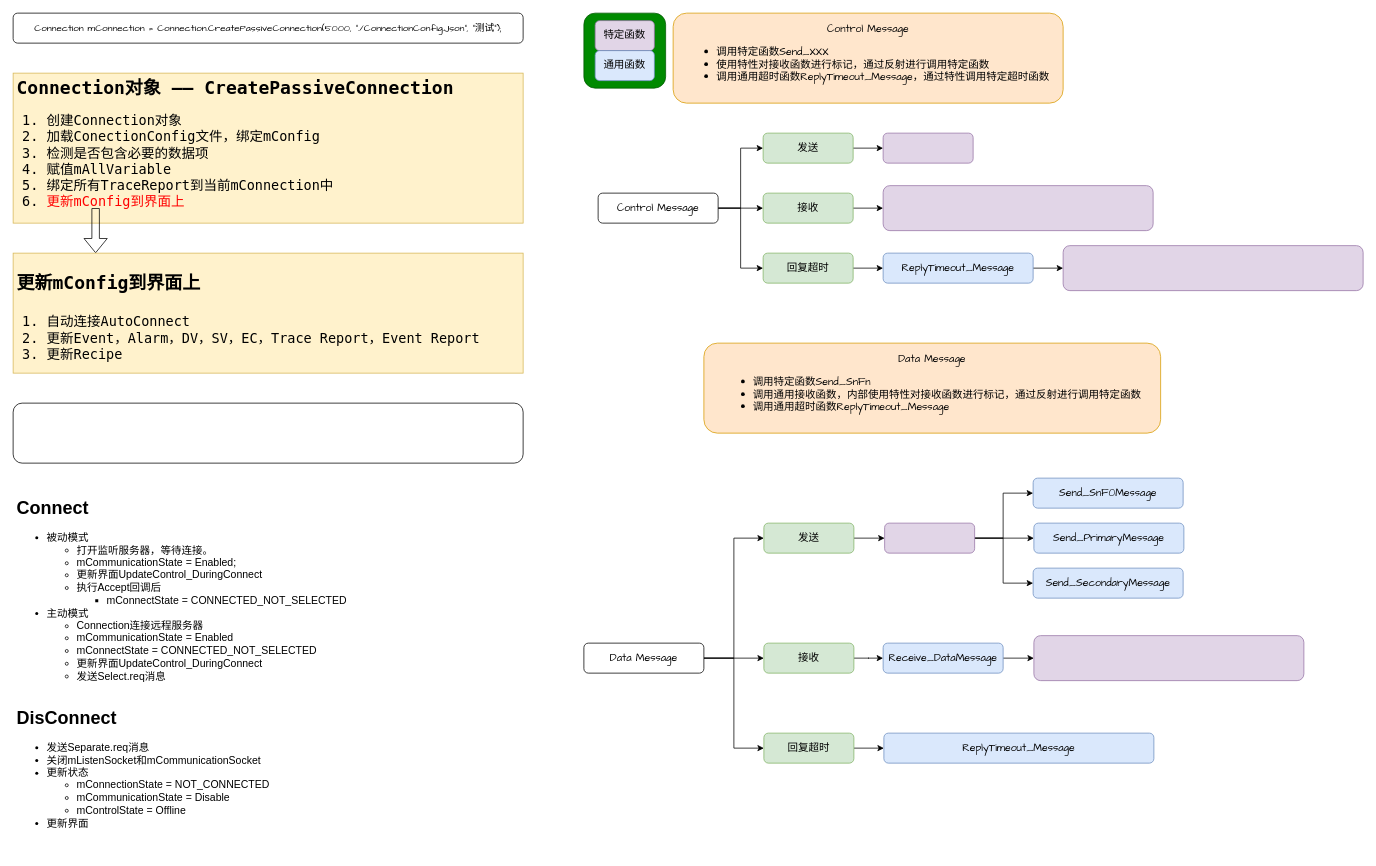
Image size: 1376x866. Some labels were removed from this diagram. The shapes that lost their labels are listed below. From the top down, each one's centre as x and y in pixels, then its label:
[927,147]: Send_XXX
[1017,208]: [Handle(SType _type, HandleType.Receive)] Receive_XXX
[1212,268]: [Handle(SType _type, HandleType.ReplyTimeout)] ReplyTimeout_XXX
[267,432]: Connection支持的操作
[929,537]: Send_SnFn_XXX
[1168,658]: [Handle(0, 0, HandleType.Receive)] Receive_SnFn_XXX()
